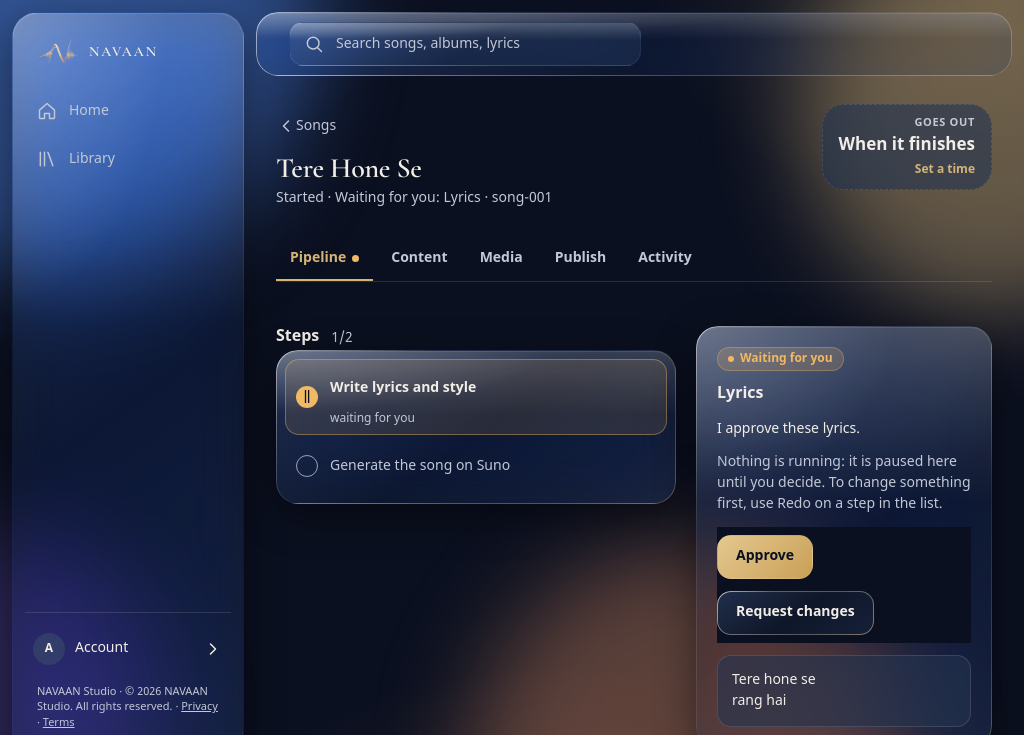
Test case: Studio > song › shows the server's error and request id when an action fails
Click the button "Approve" at (765,557), box [717, 535, 813, 579]
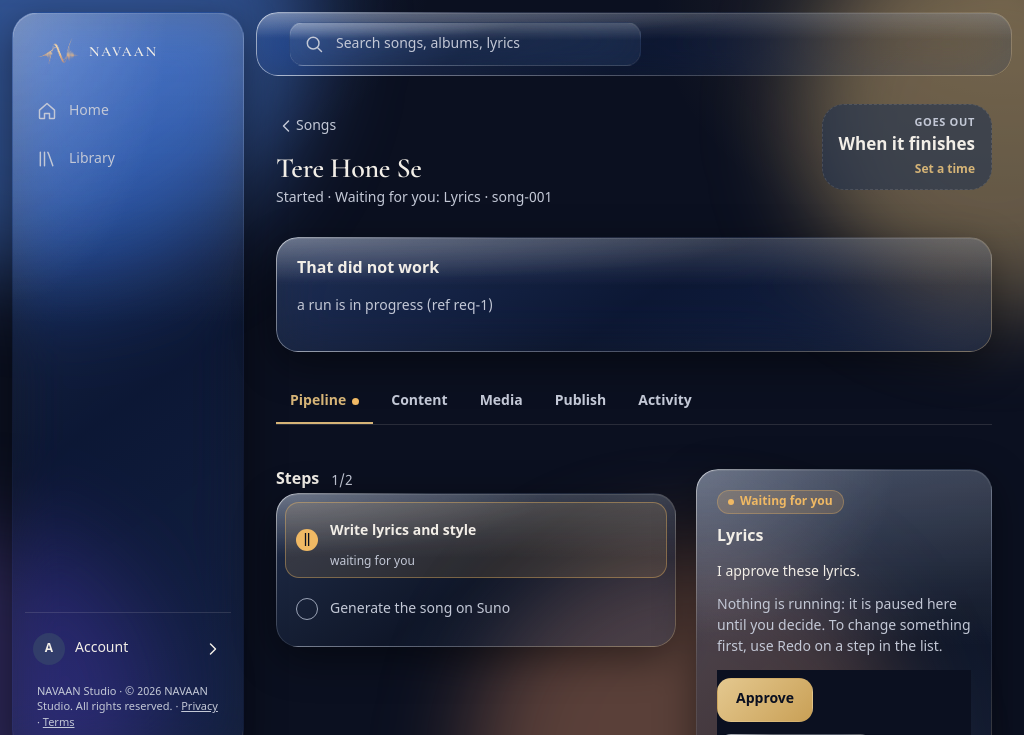
Now the message shows "a run is in progress (ref req-1)", box [297, 297, 493, 316]
